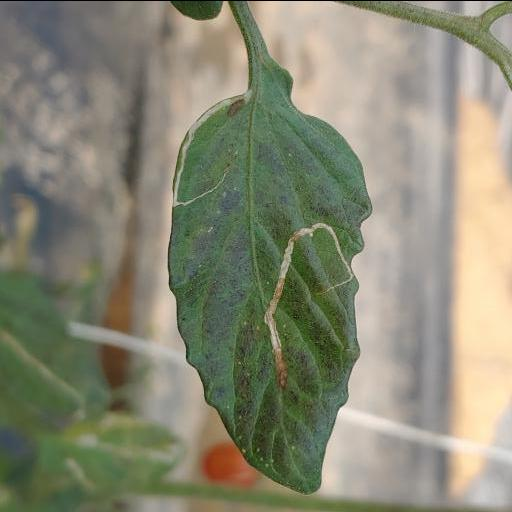disease_tomato: (166, 91, 375, 495)
